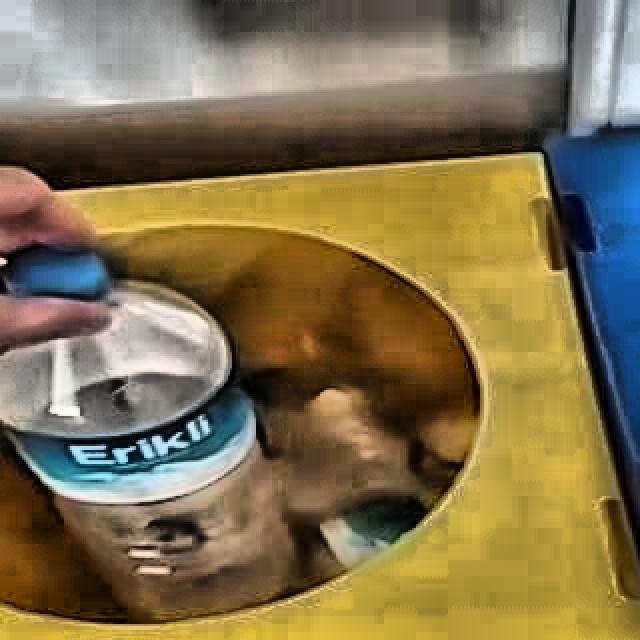plastic: (0, 245, 301, 622)
